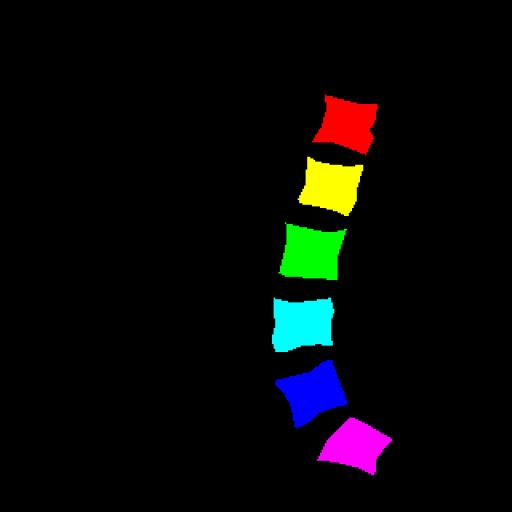L1: (313, 95, 378, 154)
L2: (299, 157, 363, 216)
L3: (279, 224, 346, 280)
L4: (272, 298, 333, 352)
L5: (275, 360, 347, 428)
S1: (317, 418, 392, 474)
